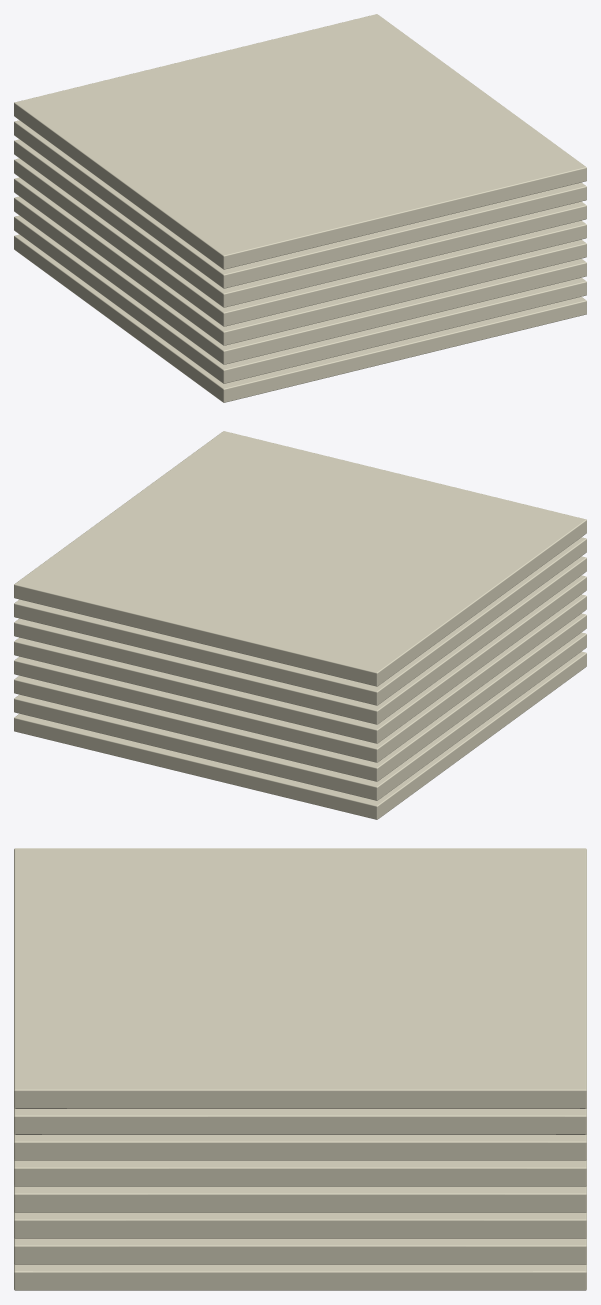
File: gauze-stack.glb
3 renders of one model, top to bottom at view 1: azimuth 30°, elevation 25°; view 2: azimuth 150°, elevation 25°; view 3: azimuth 270°, elevation 25°, orthographic. The views are drawn at different scales.
Visible parts, largest first — view 1: gauze-stack; view 2: gauze-stack; view 3: gauze-stack.
Boxes of the visible parts, <box> form: gauze-stack: <box>14,14,586,402</box>; gauze-stack: <box>14,431,586,819</box>; gauze-stack: <box>14,848,586,1290</box>.
Size of the model in its own units: 0.08 by 0.031 by 0.08.
